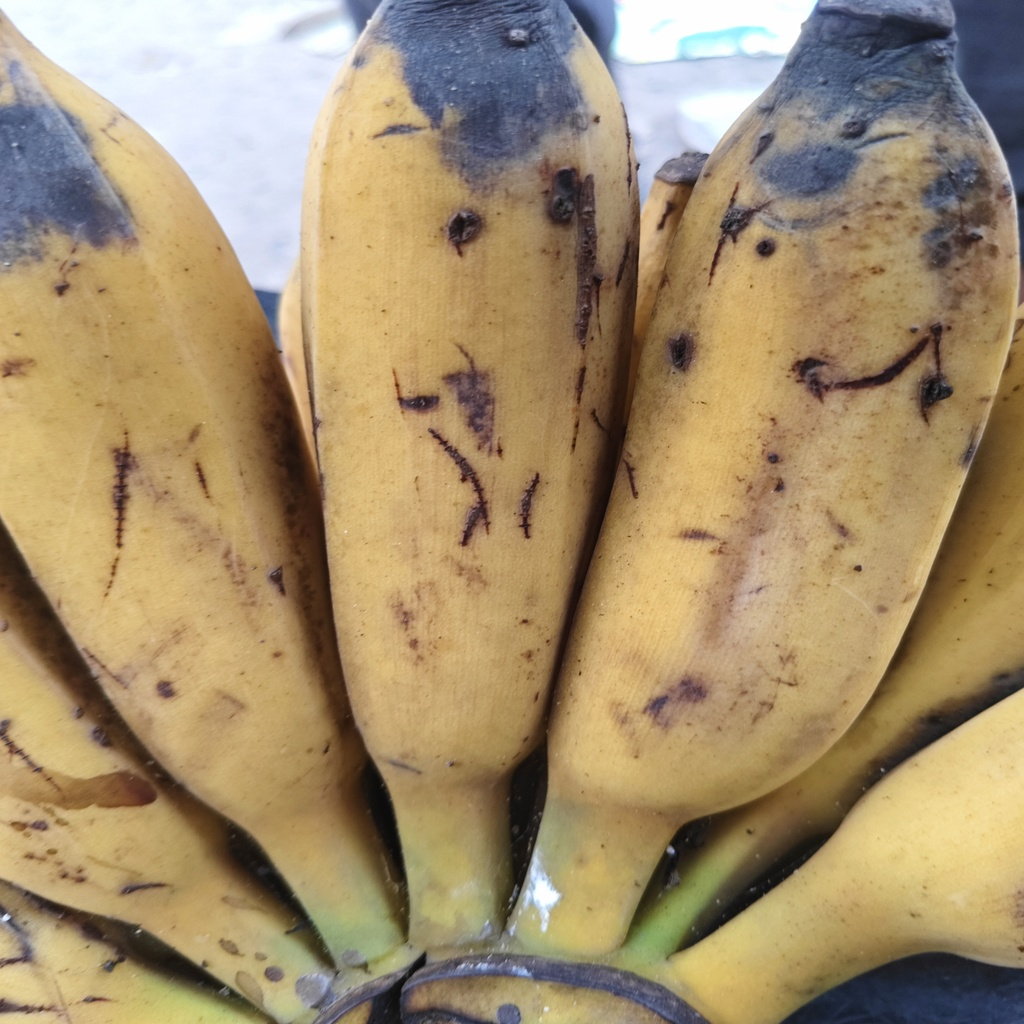unhealthy: (545, 17, 1012, 796), (303, 10, 638, 791)
